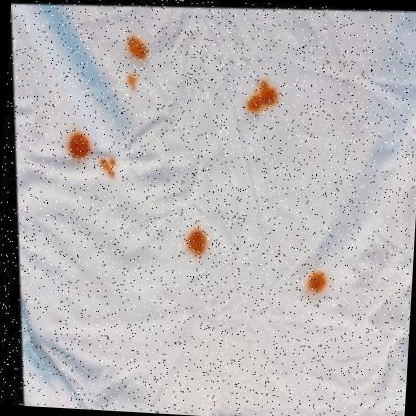kimchi: (245, 78, 287, 117), (120, 33, 154, 65), (184, 225, 212, 260), (297, 272, 334, 298), (67, 132, 89, 163), (99, 156, 119, 180), (125, 74, 141, 92)
